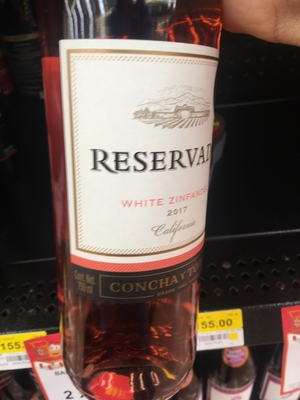reservado white zinfandel: (40, 8, 224, 400)
